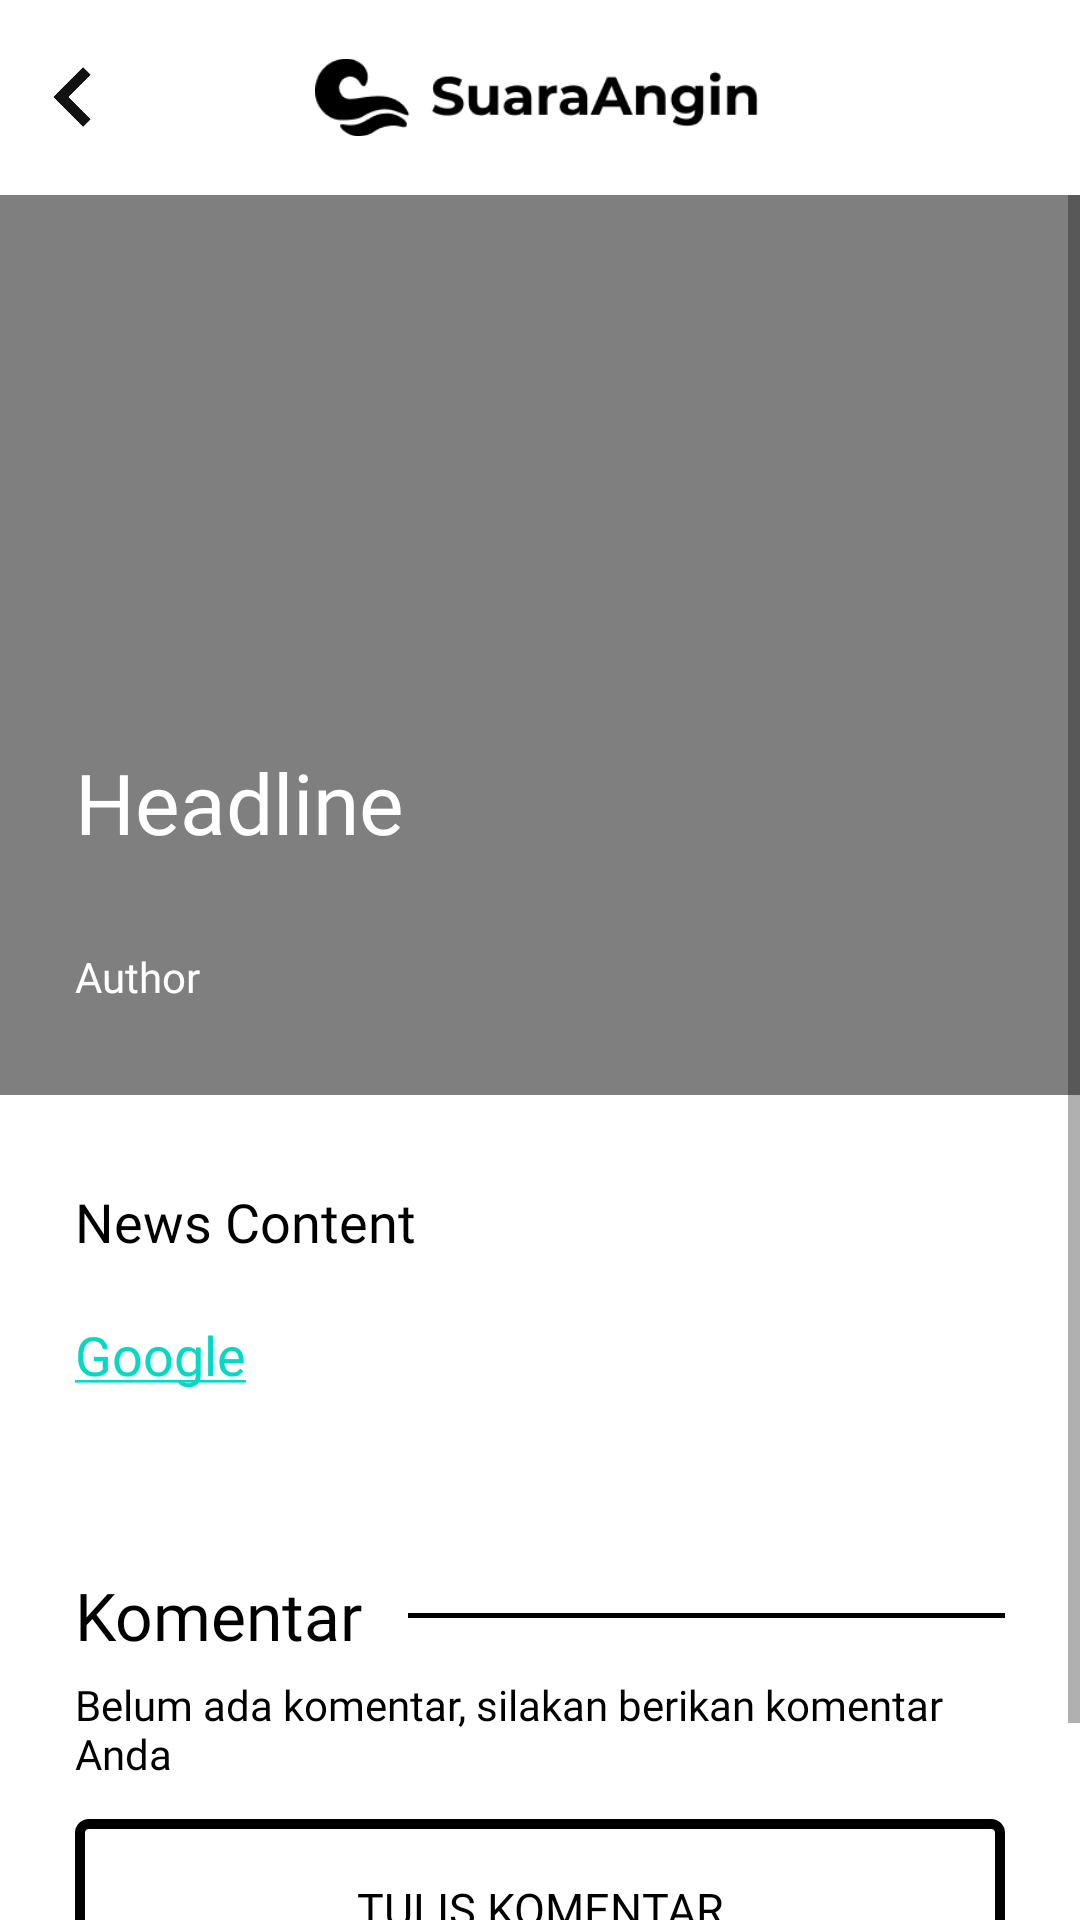

Icons on this 1080x1920 Android screen, each with the point to tap as [x,y]:
left arrow: [72,97]
